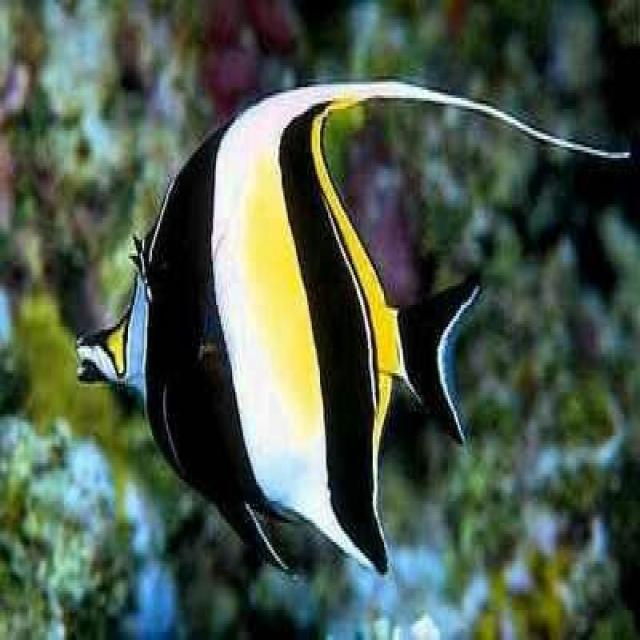MorishIdol: (72, 74, 632, 586)
